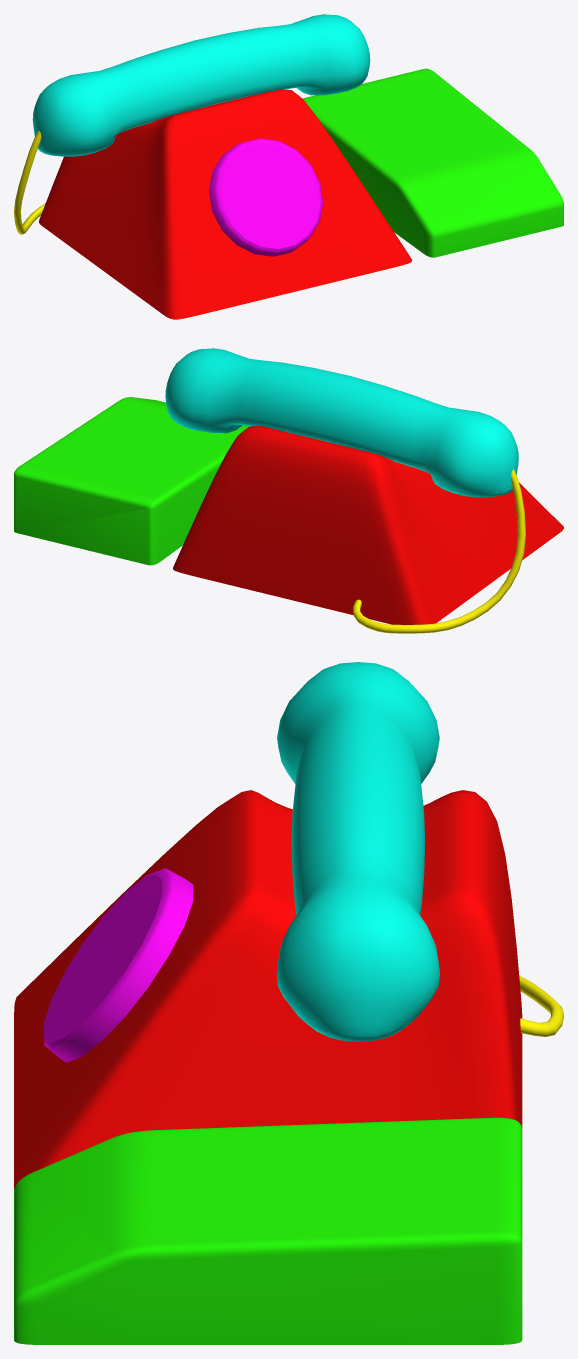
The model's file is umgebung_telefon_low.FBX.
The picture shows the model from 3 angles, top to bottom: view 1: azimuth 30°, elevation 25°; view 2: azimuth 150°, elevation 25°; view 3: azimuth 270°, elevation 25°; orthographic projection. The views are drawn at different scales.
Parts seen in each view (by area): view 1: o_telefon_low, o_anrufbeantworter_low, o_telefonhoerer_low, o_ziffernblatt_low, o_kabel_low; view 2: o_telefon_low, o_telefonhoerer_low, o_anrufbeantworter_low, o_kabel_low; view 3: o_anrufbeantworter_low, o_telefon_low, o_telefonhoerer_low, o_ziffernblatt_low, o_kabel_low.
Part boxes in pixels (x1,y1,x2,y2): o_telefon_low: (39,89,411,319); o_anrufbeantworter_low: (302,68,563,257); o_telefonhoerer_low: (32,14,370,156); o_ziffernblatt_low: (209,138,323,256); o_kabel_low: (14,130,45,234); o_telefon_low: (173,426,563,624); o_telefonhoerer_low: (165,348,518,497); o_anrufbeantworter_low: (14,397,250,565); o_kabel_low: (352,469,525,633); o_anrufbeantworter_low: (14,1117,522,1344); o_telefon_low: (14,790,522,1189); o_telefonhoerer_low: (276,662,439,1041); o_ziffernblatt_low: (44,868,193,1062); o_kabel_low: (519,975,563,1036).
Size of the model in its own units: 163 by 93.97 by 62.51.
